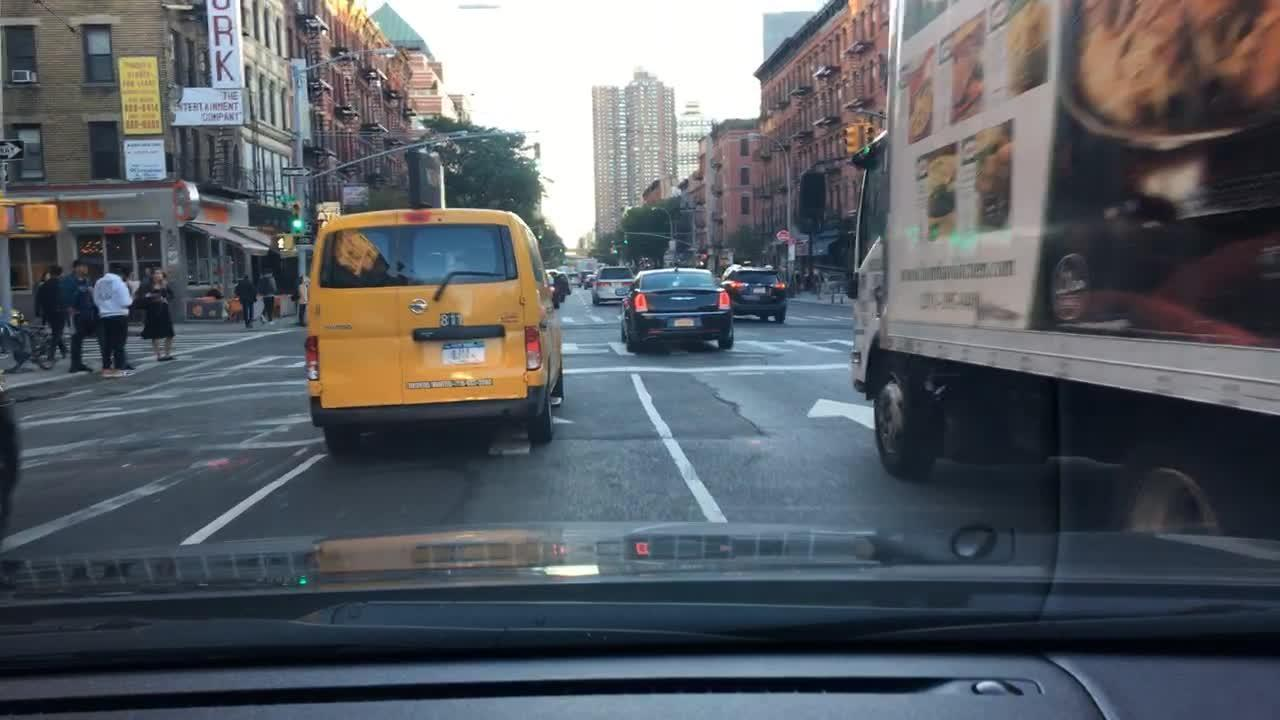Chrysler: (667, 292, 702, 306)
Nissan: (406, 293, 431, 320)
